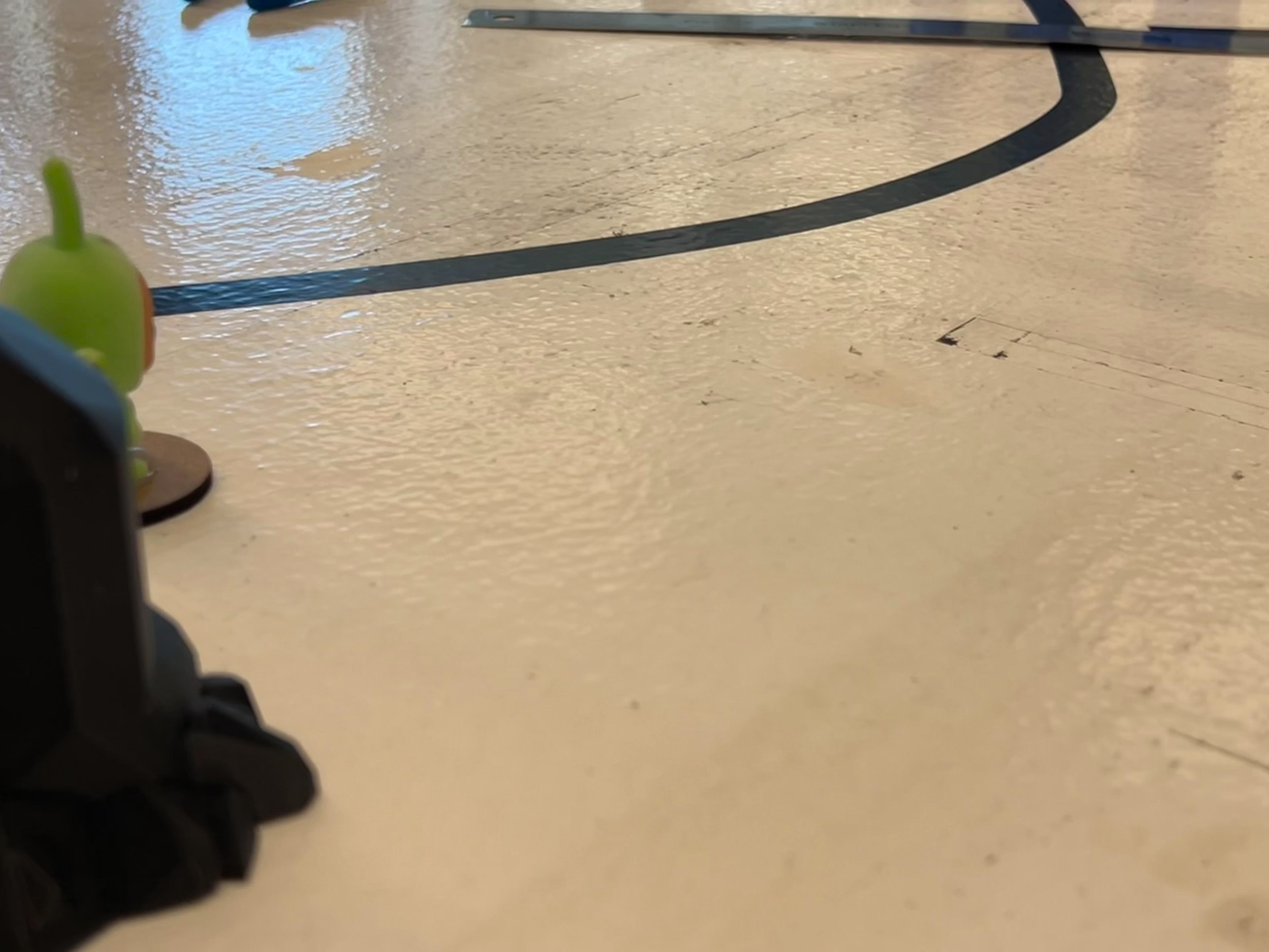teletubby: (0, 157, 154, 483)
